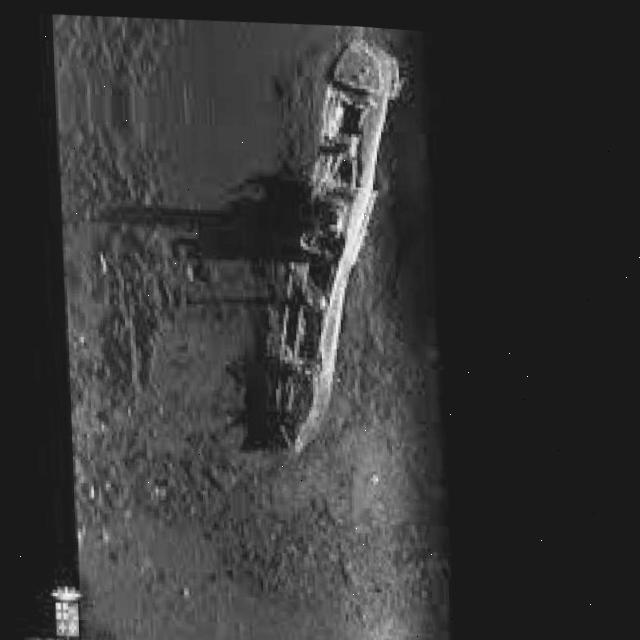shipwreck: (247, 18, 416, 454)
